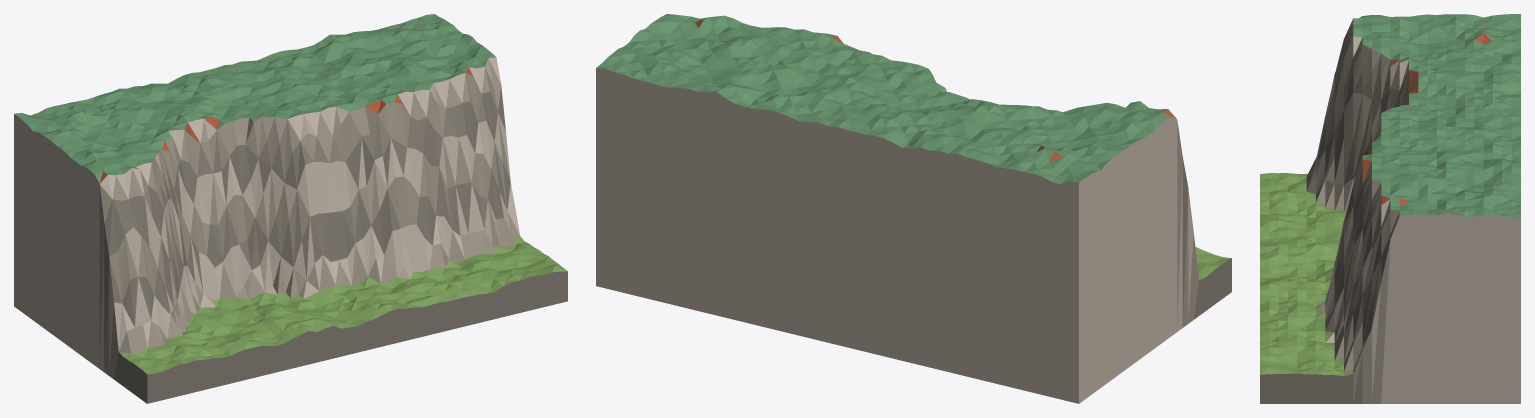
File: TERRAIN_04.obj
3 views of the same model, side by side, from view 1: azimuth 30°, elevation 25°; view 2: azimuth 150°, elevation 25°; view 3: azimuth 270°, elevation 25° (orthographic). The views are drawn at different scales.
Visible parts, largest first — view 1: TERRAIN_04; view 2: TERRAIN_04; view 3: TERRAIN_04.
Boxes of the visible parts, x1,y1,x2,y2 form: TERRAIN_04: (14,14,567,403); TERRAIN_04: (596,14,1231,403); TERRAIN_04: (1260,14,1520,403).
Bounding box in the file's own units: 62 × 27.76 × 34.
